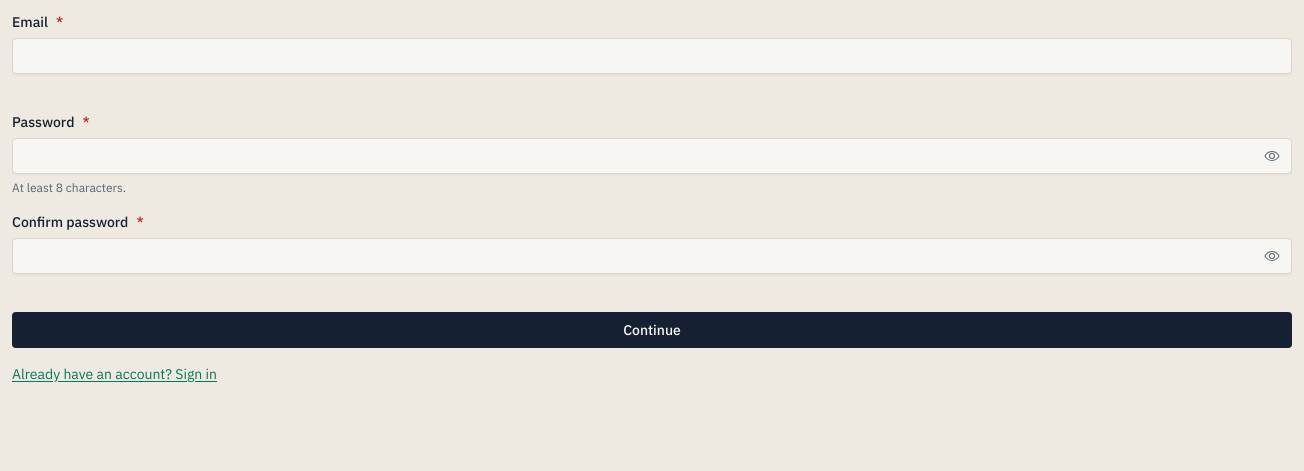
Scenario: SignupForm › simulates a network failure and still tells the user, not just resetting silently
Type "a@b.com" into the field labelled "Email *". click: (652, 56)
box: [12,38,1292,74]
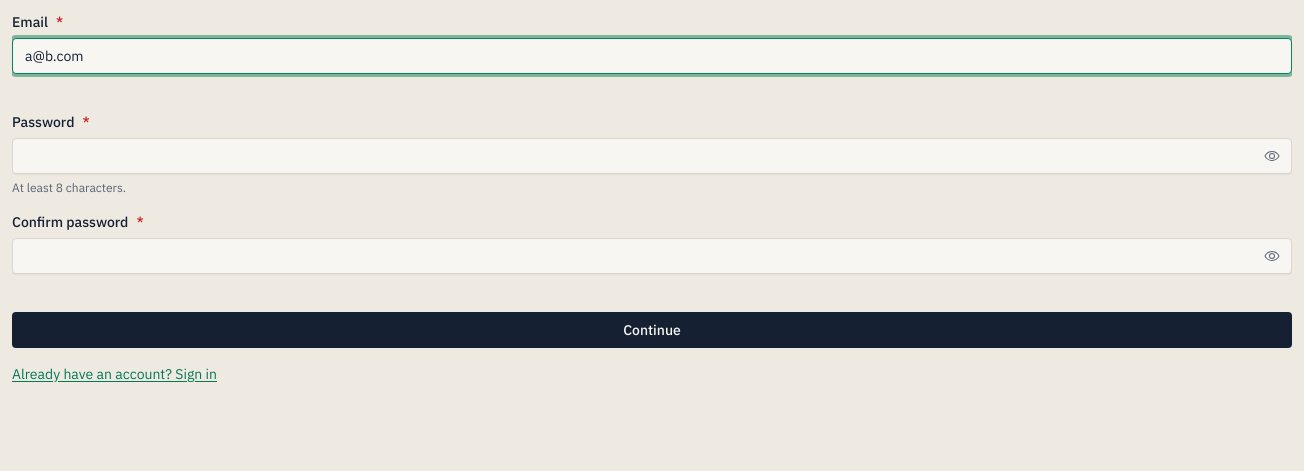
Type "password123" into the password field labelled "Password *". click: (652, 156)
box: [12,138,1292,174]
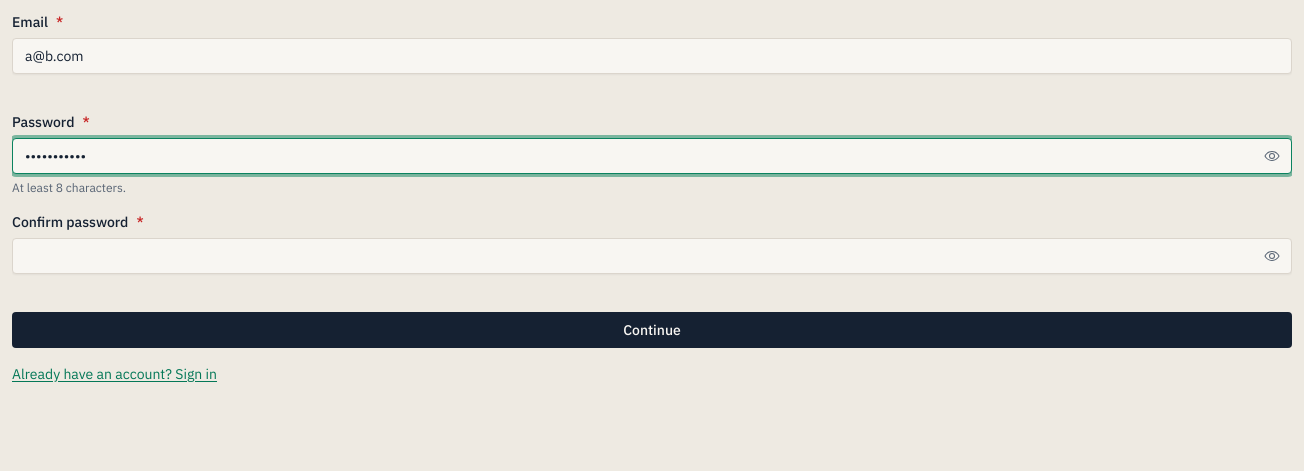
Type "password123" into the password field labelled "Confirm password *". click: (652, 256)
box: [12,238,1292,274]
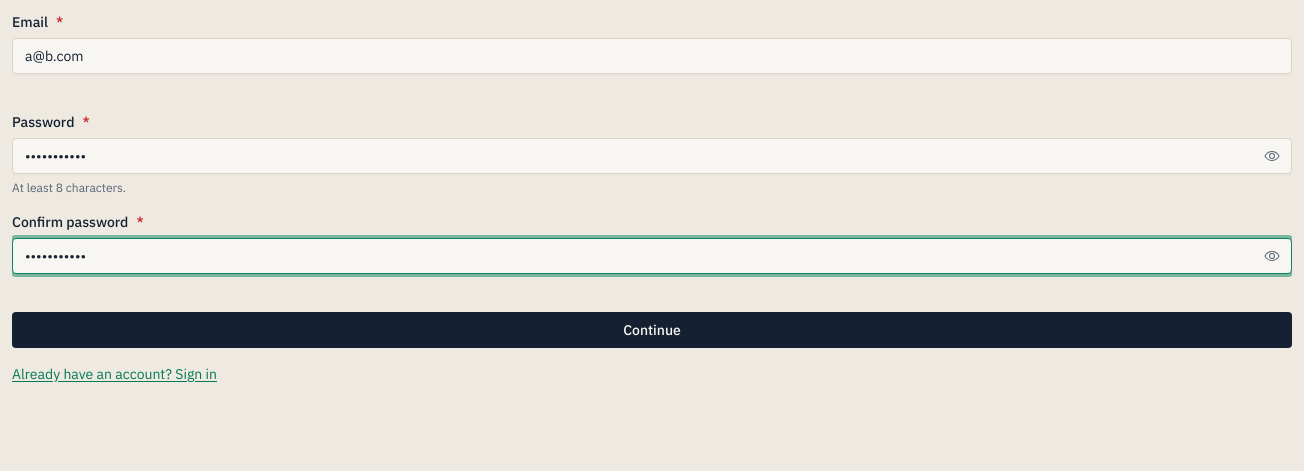
Click the button "Continue". click: (652, 330)
box: [12,312,1292,348]
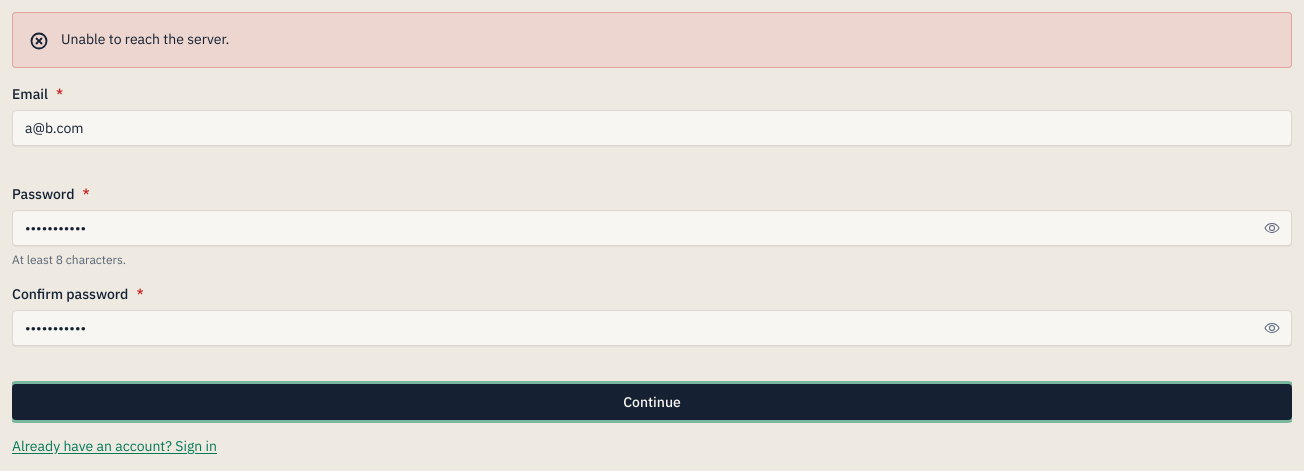
Now the message reads "Unable to reach the server.", box [61,30,229,48]
